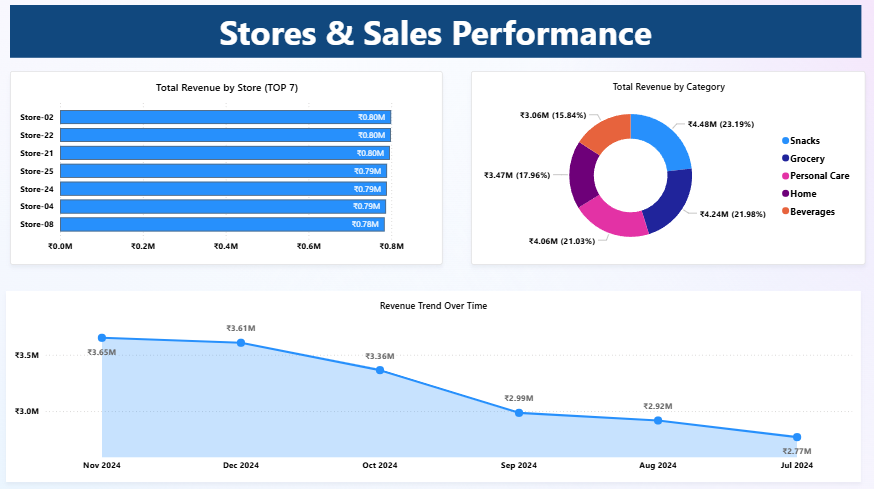

What the dashboard file says about the page in this screenshot:
{"tool":"powerbi","page":{"name":"Store & Demand Performance","canvas":[1280,720],"ordinal":2},"visuals":[{"type":"barChart","title":"Total Revenue by Store (TOP 7)","fields":{"Y":["inventory_sales_cleaned.Total Revenue"],"Category":["inventory_sales_cleaned.Store"]},"box":[28.6,109.2,623.2,278.8],"z":0},{"type":"donutChart","fields":{"Y":["inventory_sales_cleaned.Total Revenue"],"Category":["inventory_sales_cleaned.Category"]},"box":[692.1,109.2,567.8,278.8],"z":1},{"type":"lineChart","title":"Revenue Trend Over Time","fields":{"Y":["inventory_sales_cleaned.Total Revenue"],"Category":["Date.MonthYear"]},"box":[23.5,426.7,1231.3,275.5],"z":2},{"type":"textbox","box":[28.6,15.1,1226.2,75.6],"z":3}]}

Visuals, with their boxes in screenshot pixels (x1, y1, x2, y2), scaled from the page's 1280x720 canvas onto the 874x489 screenshot:
"Total Revenue by Store (TOP 7)" barChart: <region>20, 74, 445, 264</region>
donutChart - inventory_sales_cleaned.Total Revenue x inventory_sales_cleaned.Category: <region>473, 74, 860, 264</region>
"Revenue Trend Over Time" lineChart: <region>16, 290, 857, 477</region>
textbox: <region>20, 10, 857, 62</region>
